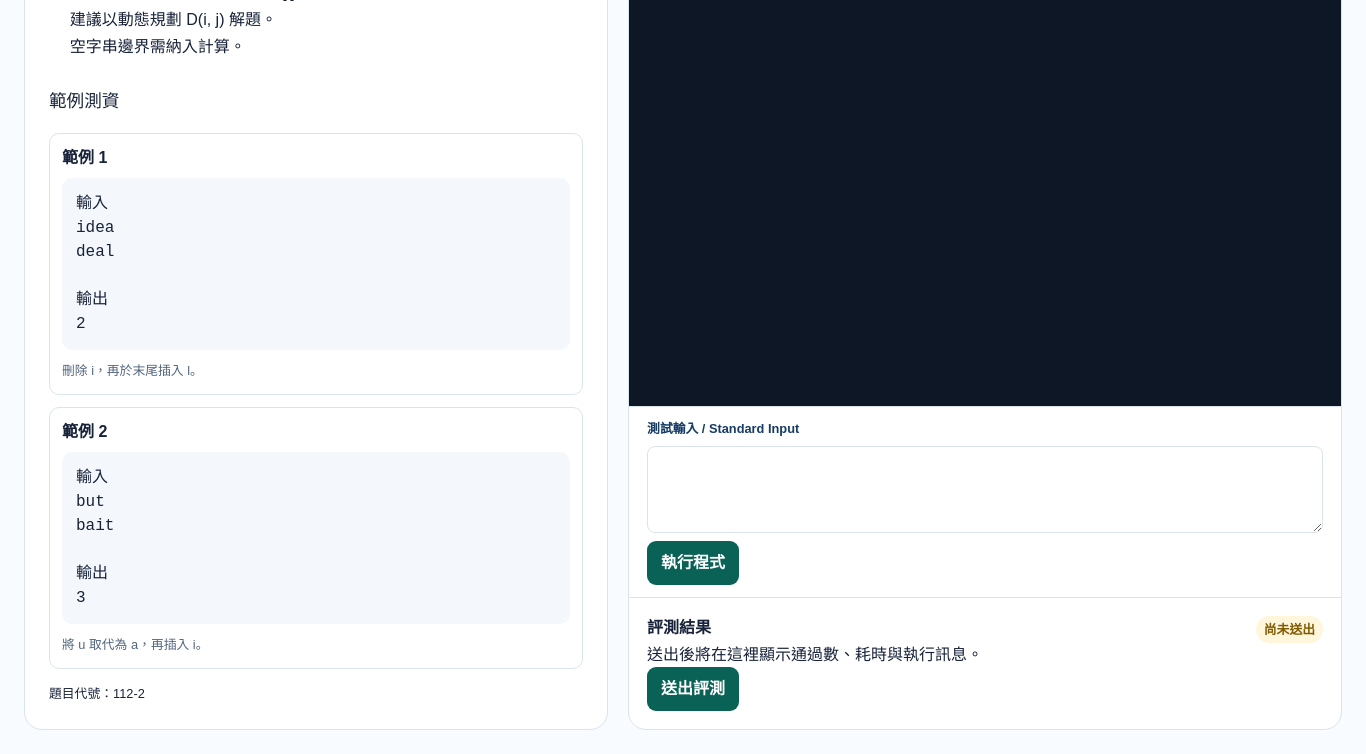
Scenario: Phase 4：server-authoritative finalization（Browser 不再自己決定成績） › judge_unavailable 不回填成績、不顯示人工確認表單，只顯示可重試的訊息
The image size is (1366, 754).
(page scrolled)
Click the button "送出評測": (693, 689) [647,667,739,711]
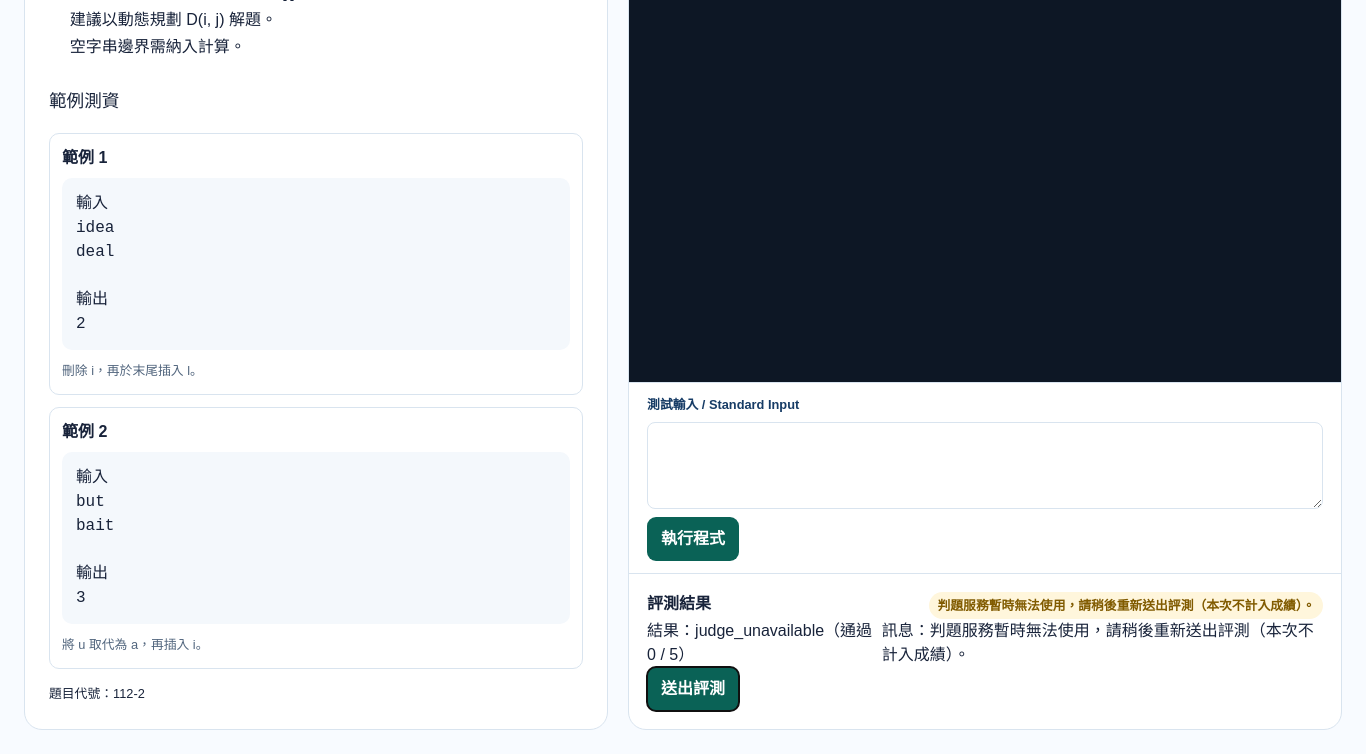
expect the text "判題服務暫時無法使用，請稍後重新送出評測（本次不計入成績）。" is shown: met, box [930,592,1323,619]
